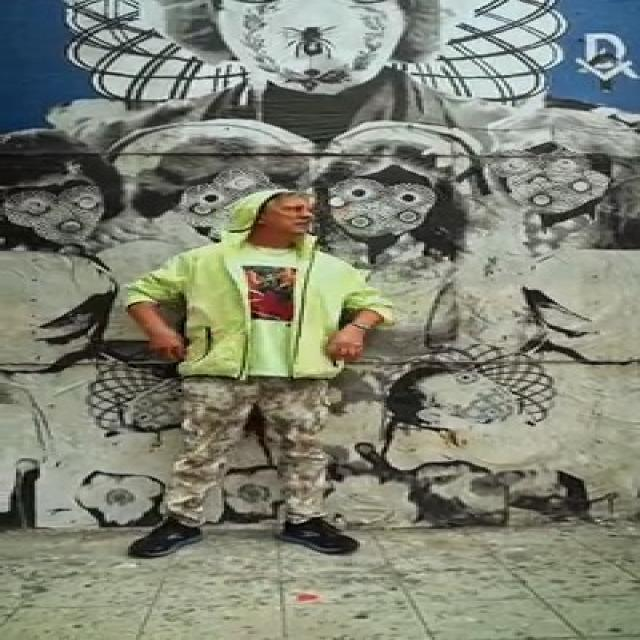Jacket_Wearer: (122, 242, 397, 376)
Person: (112, 183, 401, 533)
